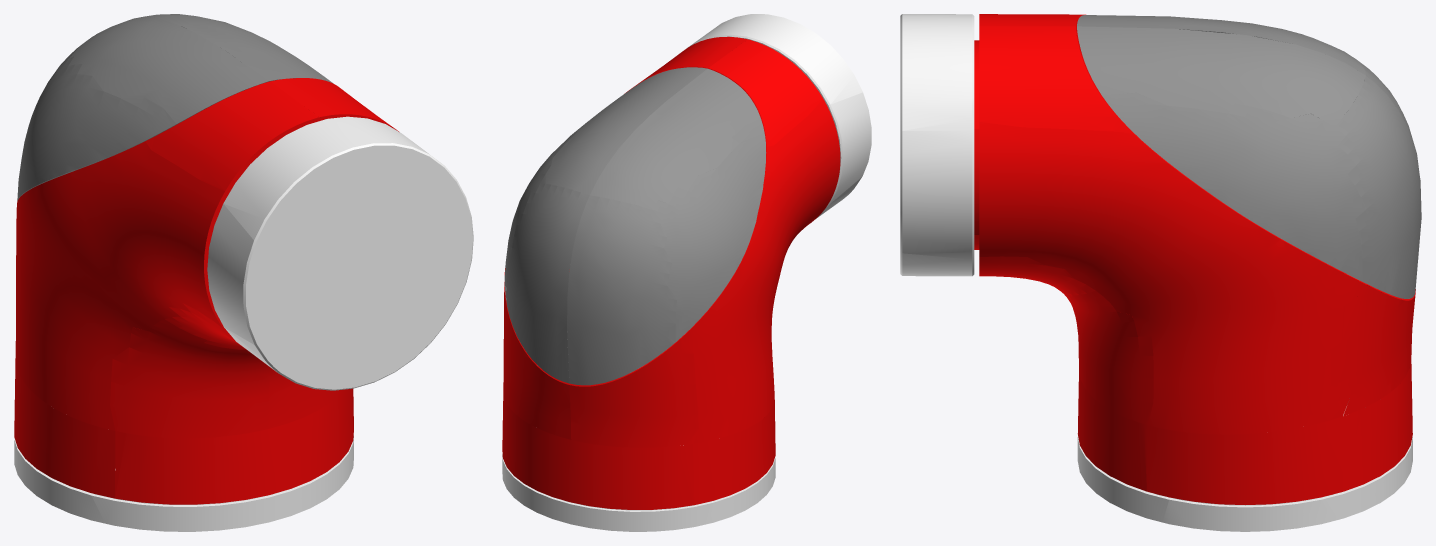
3 renders of one model, left to right at view 1: azimuth 30°, elevation 25°; view 2: azimuth 150°, elevation 25°; view 3: azimuth 270°, elevation 25°, orthographic. The views are drawn at different scales.
Visible parts, largest first — view 1: _3DGeom_23, _3DGeom_22, _3DGeom_24; view 2: _3DGeom_23, _3DGeom_24, _3DGeom_22; view 3: _3DGeom_23, _3DGeom_24, _3DGeom_22.
Boxes of the visible parts, bbox=[...] form: _3DGeom_23: bbox=[14, 78, 398, 504]; _3DGeom_22: bbox=[14, 116, 473, 531]; _3DGeom_24: bbox=[17, 14, 333, 200]; _3DGeom_23: bbox=[502, 36, 840, 509]; _3DGeom_24: bbox=[504, 67, 766, 385]; _3DGeom_22: bbox=[502, 14, 871, 531]; _3DGeom_23: bbox=[974, 14, 1415, 505]; _3DGeom_24: bbox=[1077, 15, 1421, 298]; _3DGeom_22: bbox=[900, 14, 1412, 531].
Bounding box in the file's own units: 0.136 × 0.2116 × 0.1958.
